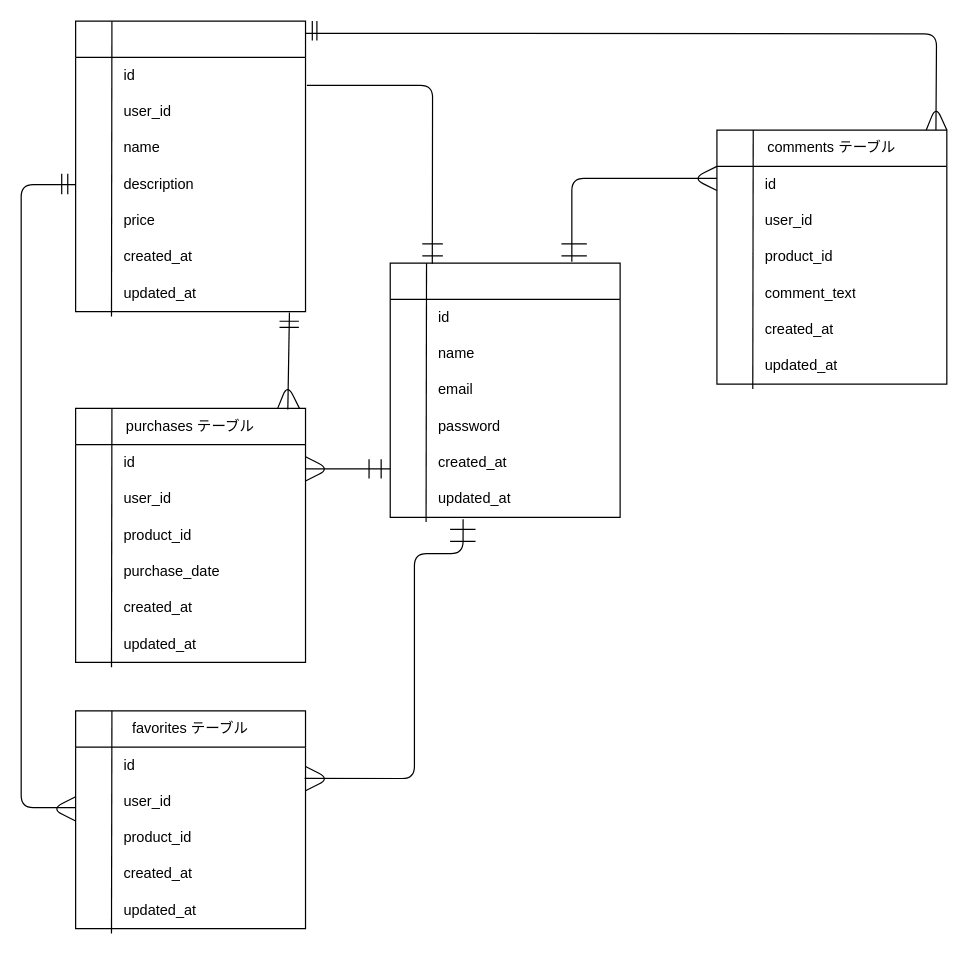
Image size: 969x956. Some labels were removed from this diagram. The shapes that lost their labels are listed below. From the top down, each one's box as (x1, y1, x2, y2) in pixels, then its label:
(74, 20, 306, 312): products テーブル
(389, 262, 620, 517): users テーブル
